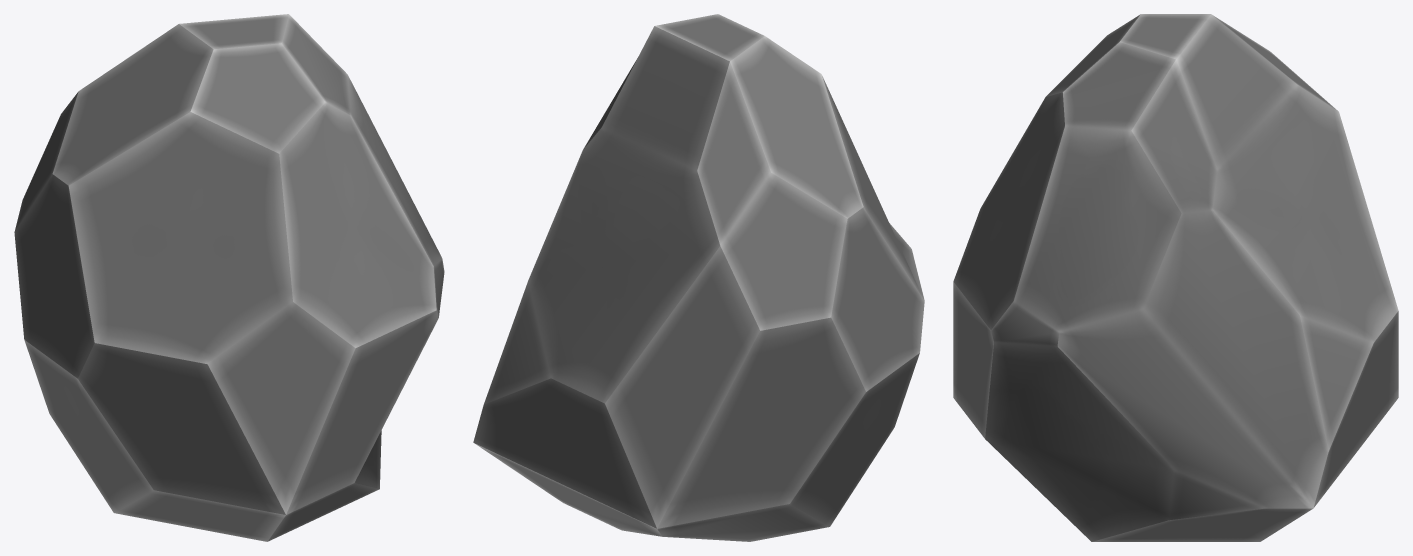
File: Rock01.fbx
The picture shows the model from 3 angles, left to right: view 1: azimuth 30°, elevation 25°; view 2: azimuth 150°, elevation 25°; view 3: azimuth 270°, elevation 25°; orthographic projection.
Parts seen in each view (by area): view 1: Rock01_LOD0; view 2: Rock01_LOD0; view 3: Rock01_LOD0.
Part boxes in pixels (x1,y1,x2,y2): Rock01_LOD0: [14, 14, 444, 541]; Rock01_LOD0: [473, 14, 924, 541]; Rock01_LOD0: [953, 14, 1398, 541].
Size of what is drawn, in the model's own units: 111 by 138 by 122.
1 material, 1 textured.
